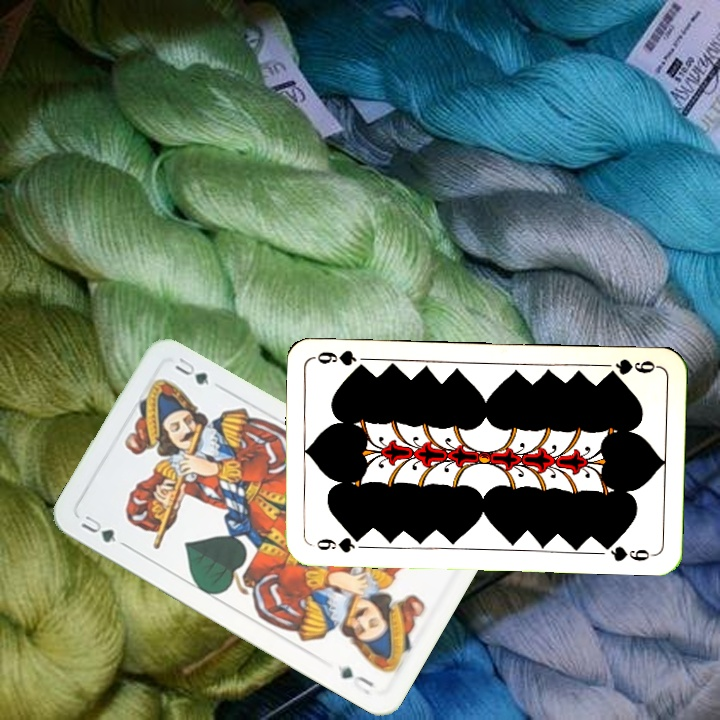G9: (602, 355, 661, 380), (307, 532, 366, 555)
GU: (77, 511, 119, 546)
